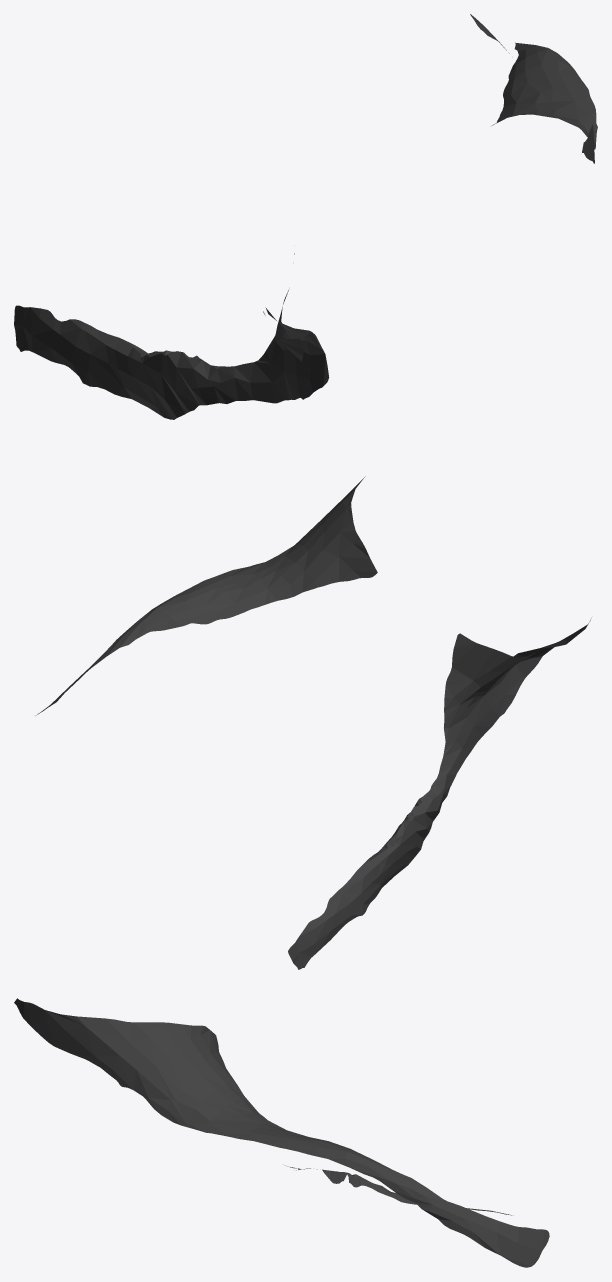
Rendered from ligs_ergot.glb.
3 renders of one model, top to bottom at view 1: azimuth 30°, elevation 25°; view 2: azimuth 150°, elevation 25°; view 3: azimuth 270°, elevation 25°, orthographic. The views are drawn at different scales.
Parts seen in each view (by area): view 1: ligs_ergot; view 2: ligs_ergot; view 3: ligs_ergot.
Part boxes in pixels (x1,y1,x2,y2): ligs_ergot: (14, 14, 597, 419); ligs_ergot: (36, 476, 591, 969); ligs_ergot: (14, 998, 549, 1267).
Size of the model in its own units: 0.081 by 0.064 by 0.1038.
1 material, 1 textured.
